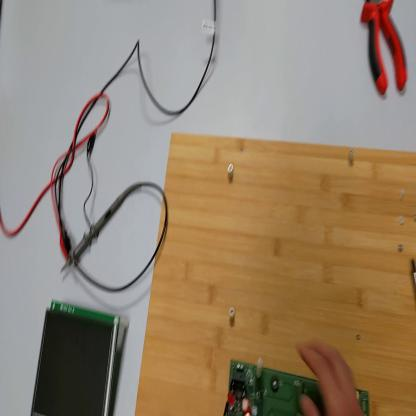hand: (298, 338, 367, 416)
low voltage board: (224, 358, 369, 413)
oscilloscope probe tip: (60, 185, 136, 275)
pliers: (359, 1, 409, 101)
screwdriver-: (411, 258, 416, 300)
working area: (135, 134, 416, 415)
